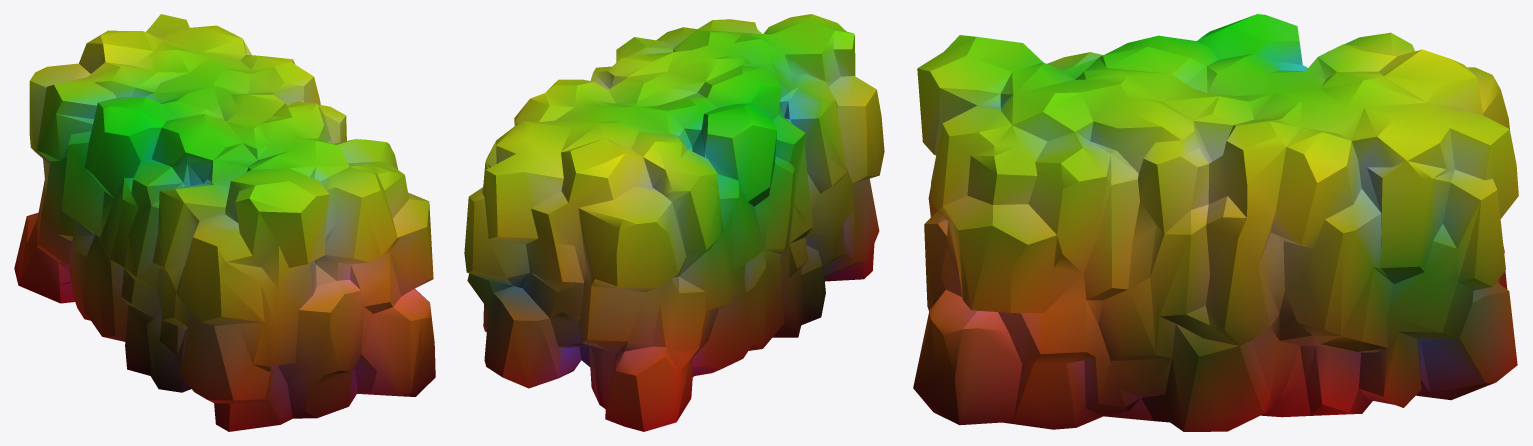
The model's file is MS_RockBig_04.fbx.
The picture shows the model from 3 angles, left to right: view 1: azimuth 30°, elevation 25°; view 2: azimuth 150°, elevation 25°; view 3: azimuth 270°, elevation 25°; orthographic projection. The views are drawn at different scales.
Parts seen in each view (by area): view 1: RockBig_04; view 2: RockBig_04; view 3: RockBig_04.
Boxes of the visible parts, x1,y1,x2,y2 form: RockBig_04: (14, 14, 435, 431); RockBig_04: (464, 14, 884, 431); RockBig_04: (913, 14, 1518, 431).
Size of the model in its own units: 8829 by 8170 by 15146.
